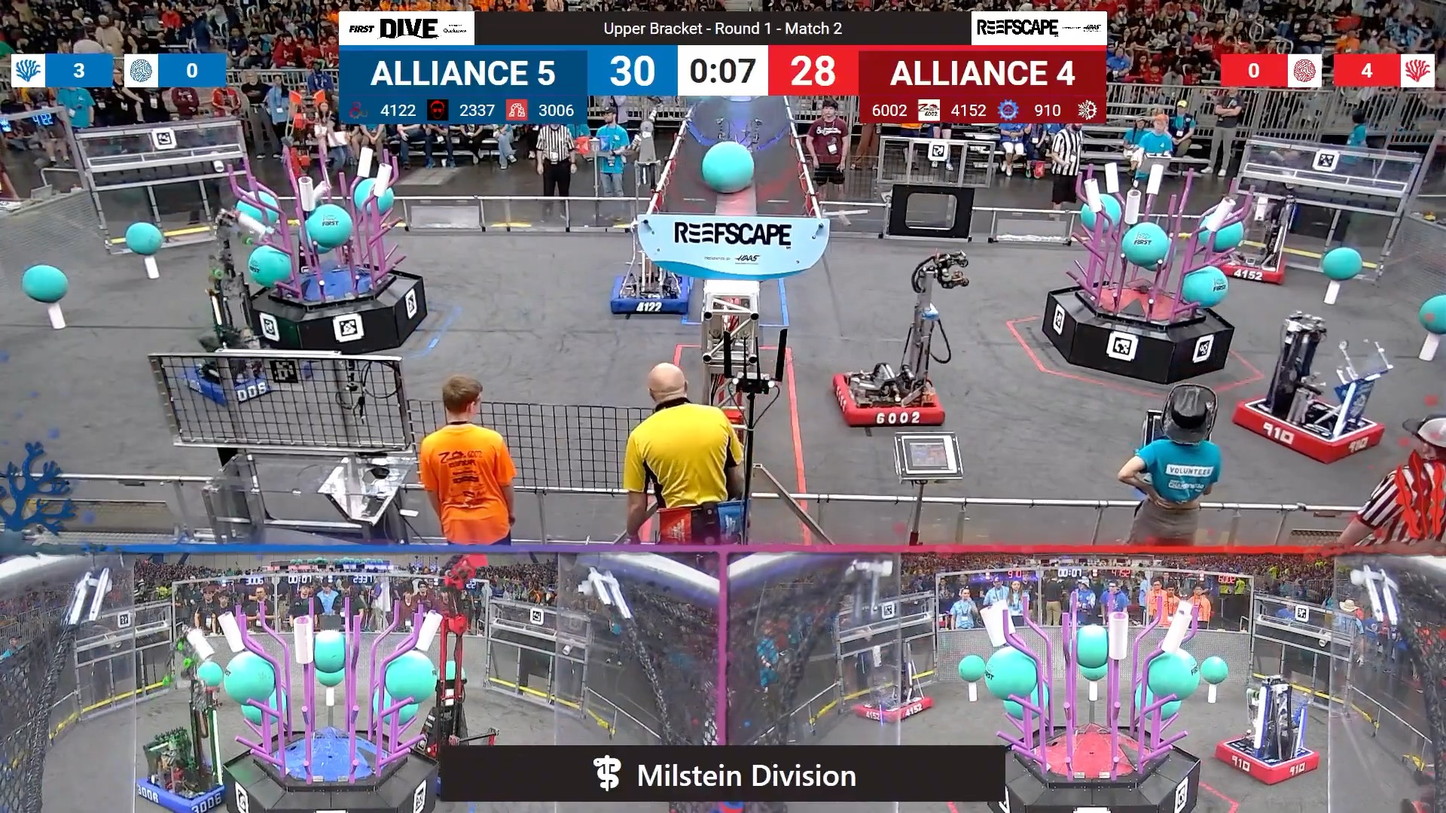bumpers: (1227, 391, 1392, 464), (825, 371, 950, 431), (170, 359, 296, 407), (1213, 736, 1329, 785), (131, 763, 236, 812), (605, 269, 698, 320), (1197, 245, 1294, 288), (850, 690, 937, 723)
